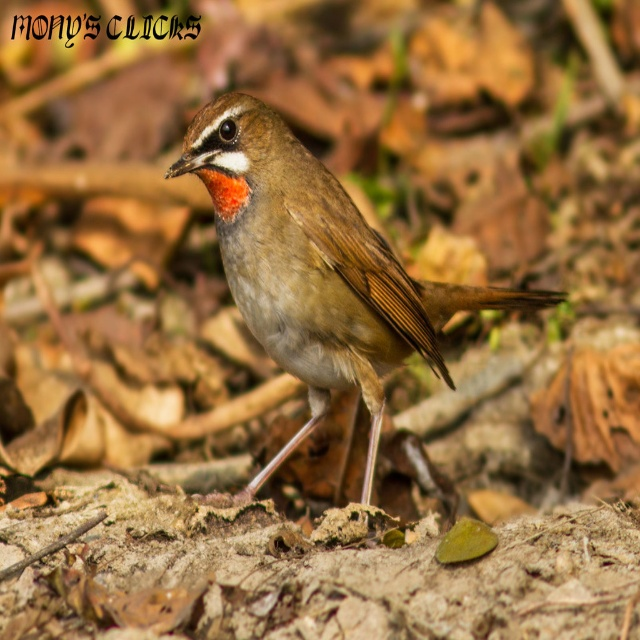Sparrow: (162, 88, 569, 524)
